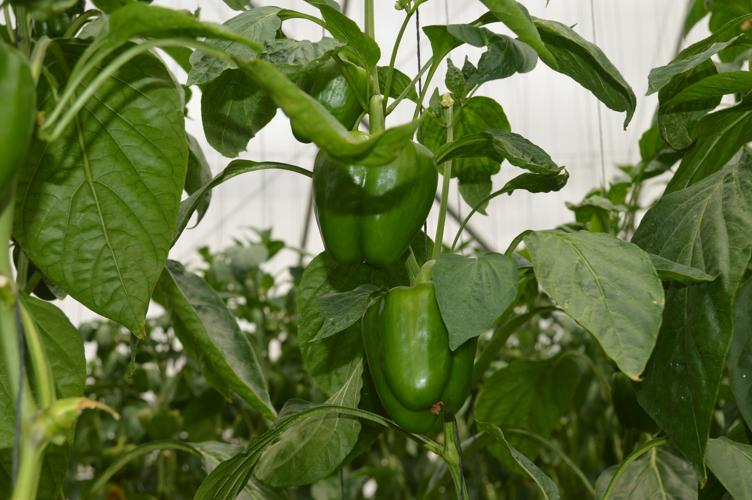BellPepper: (354, 280, 470, 432), (314, 140, 437, 260), (282, 57, 366, 133)
